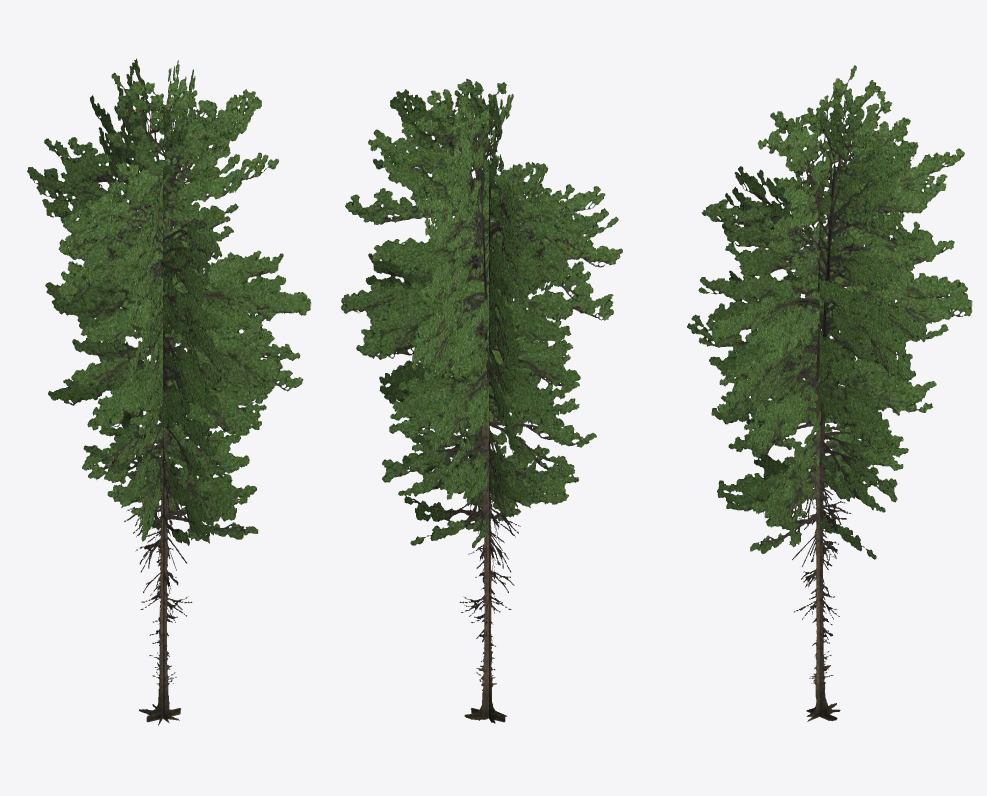
Rendered from pine_a_bb.glb.
3 views of the same model, side by side, from view 1: azimuth 30°, elevation 25°; view 2: azimuth 150°, elevation 25°; view 3: azimuth 270°, elevation 25° (orthographic).
Parts seen in each view (by area): view 1: pine_a_billboard; view 2: pine_a_billboard; view 3: pine_a_billboard.
Part boxes in pixels (x1,y1,x2,y2): pine_a_billboard: [27, 58, 311, 725]; pine_a_billboard: [340, 78, 622, 723]; pine_a_billboard: [687, 65, 972, 721].
Size of the model in its own units: 8.84 by 20.34 by 8.84.
Materials: 1 (1 with a texture image).
